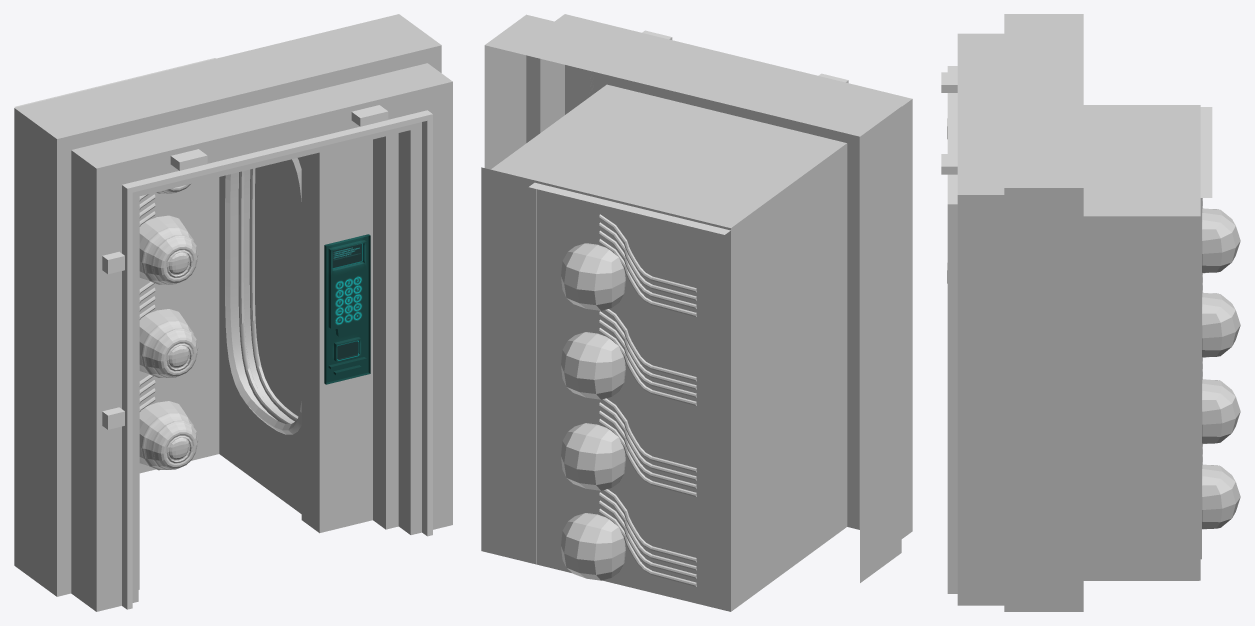
The model's file is BACK.fbx.
The picture shows the model from 3 angles, left to right: view 1: azimuth 30°, elevation 25°; view 2: azimuth 150°, elevation 25°; view 3: azimuth 270°, elevation 25°; orthographic projection. The views are drawn at different scales.
Parts seen in each view (by area): view 1: main body, main.body.left, back_table body.001, main body.decoation, main body.back, Cube, back_motor.001, back_motor.003, back_motor.002, main.body.left.001, main.body.left.light, main.body.left.light.001 (+2 smaller); view 2: main body, main body.back, back_motor.001, back_motor.002, back_motor.003, back_motor, tubo back, tubo back.002, tubo back.003, tubo back.001, main body.light; view 3: main body, back_table body, main body.decoation, back_motor, back_motor.001, back_motor.003, back_motor.002, main body.light, main.body.left, main body.decoation.c.
Boxes of the visible parts, box(x1,y1,x2,y2) form: main body: box(14, 14, 452, 611); main.body.left: box(219, 157, 301, 513); back_table body.001: box(301, 139, 372, 533); main body.decoation: box(122, 110, 432, 609); main body.back: box(139, 177, 219, 472); Cube: box(324, 234, 370, 384); back_motor.001: box(139, 215, 198, 284); back_motor.003: box(139, 401, 198, 470); back_motor.002: box(139, 309, 198, 377); main.body.left.001: box(225, 158, 301, 434); main.body.left.light: box(238, 171, 292, 423); main.body.left.light.001: box(249, 168, 298, 421); main body: box(484, 14, 912, 611); main body.back: box(481, 167, 721, 609); back_motor.001: box(561, 332, 625, 399); back_motor.002: box(561, 423, 625, 490); back_motor.003: box(561, 513, 625, 580); back_motor: box(561, 243, 625, 310); tubo back: box(599, 214, 696, 316); tubo back.002: box(599, 398, 696, 496); tubo back.003: box(599, 489, 696, 586); tubo back.001: box(599, 309, 696, 405); main body.light: box(529, 182, 730, 234); main body: box(957, 14, 1200, 611); back_table body: box(1083, 219, 1199, 580); main body.decoation: box(947, 66, 957, 593); back_motor: box(1202, 208, 1240, 273); back_motor.001: box(1202, 292, 1240, 357); back_motor.003: box(1202, 464, 1240, 529); back_motor.002: box(1202, 379, 1240, 443); main body.light: box(1200, 107, 1212, 197); main.body.left: box(1200, 198, 1201, 559); main body.decoation.c: box(941, 72, 957, 174).
Bounding box in the file's own units: 704 × 800 × 512.
Materials: 4 (1 with a texture image).
